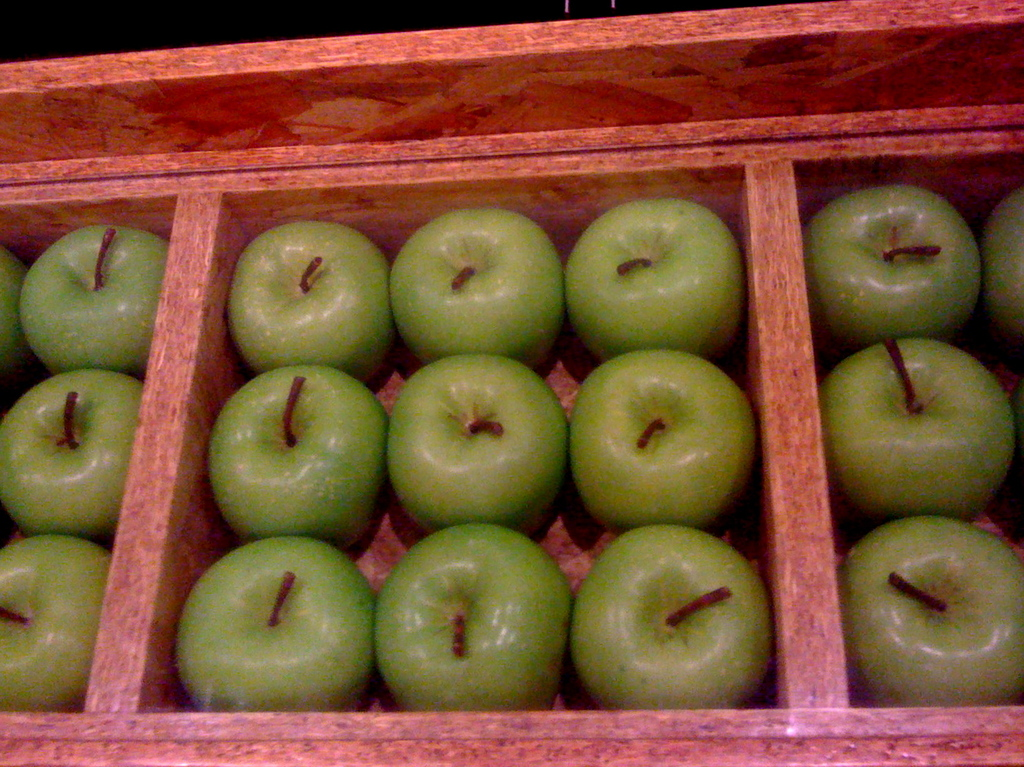Apple: (173, 193, 770, 708), (200, 367, 391, 570), (837, 509, 1023, 706), (823, 334, 1011, 525), (804, 186, 978, 353), (0, 367, 141, 534), (17, 223, 173, 372), (0, 524, 111, 711), (979, 183, 1023, 341), (0, 239, 23, 357)
